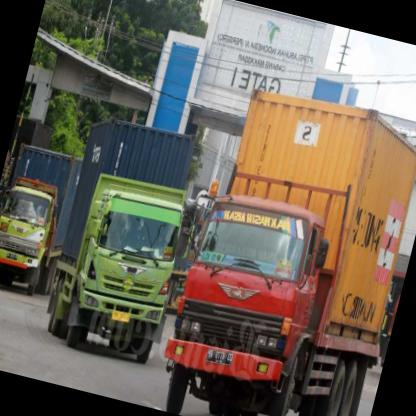truck: (151, 182, 339, 416), (62, 182, 194, 366), (1, 180, 65, 299)
